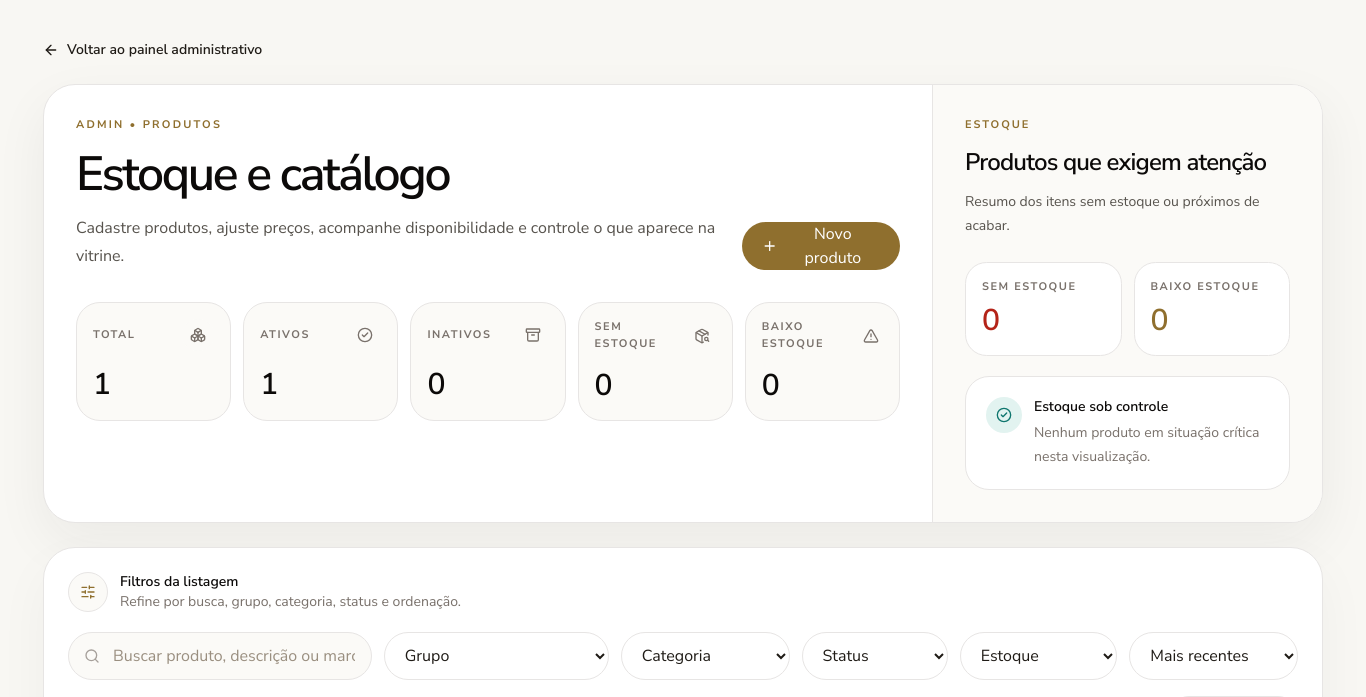
it: AdminProductsPage › abre formulário de novo produto
The image size is (1366, 697).
Click the button "Novo produto". click: (821, 246)
box: x1=742 y1=222 x2=900 y2=270
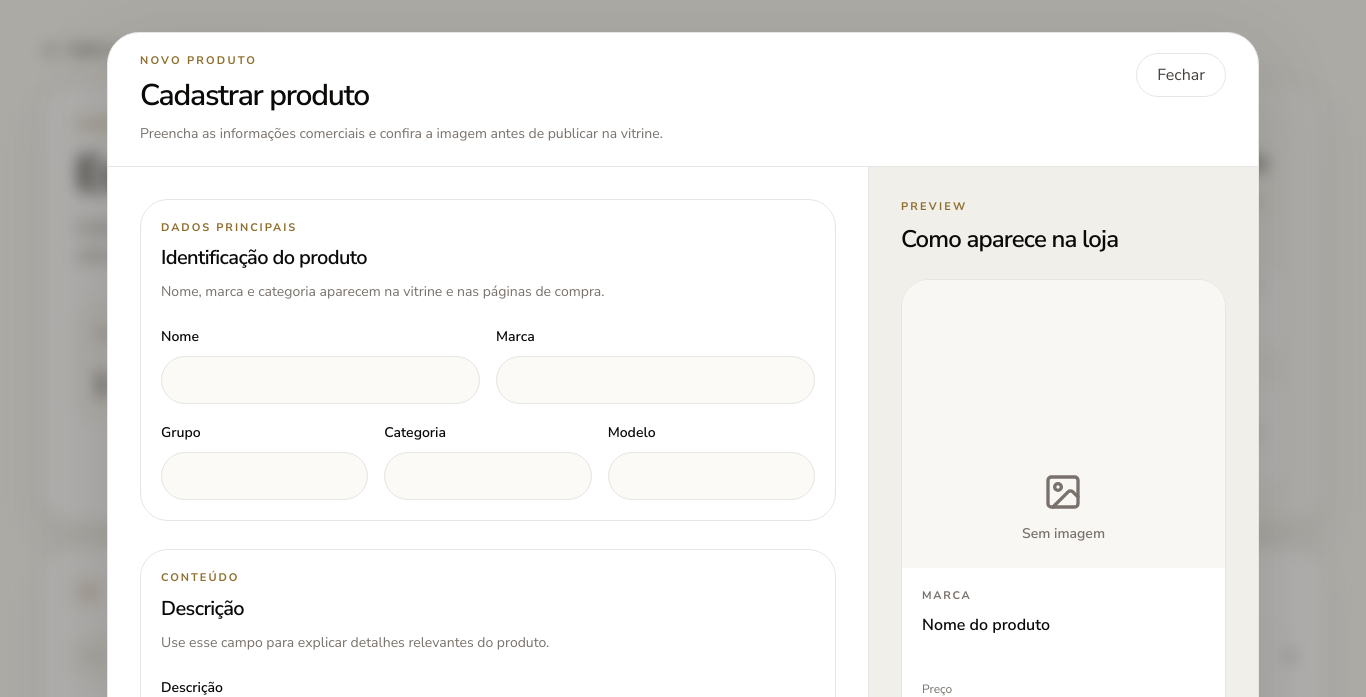
expect the heading "Cadastrar produto" is shown: met, box x1=140 y1=74 x2=369 y2=116
expect the text "Dados principais" is shown: met, box x1=161 y1=220 x2=297 y2=234
